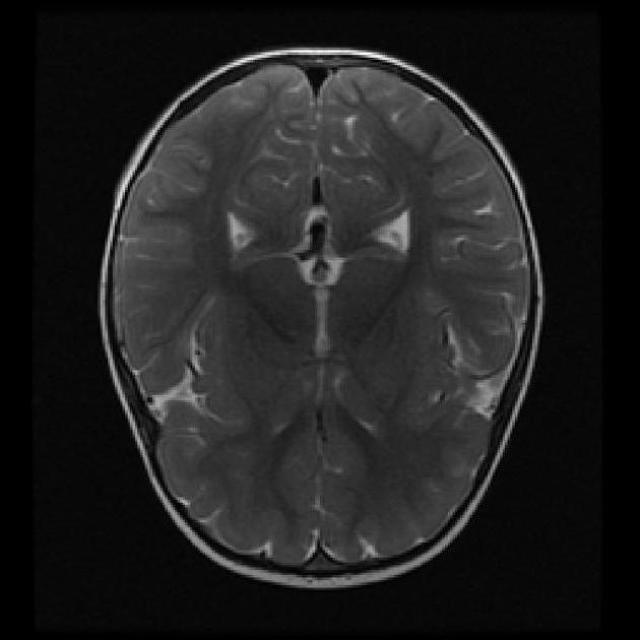notumor: (100, 49, 542, 587)
